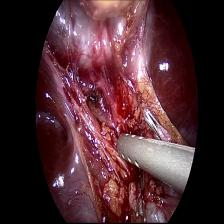Irrigator: (116, 128, 158, 173)
